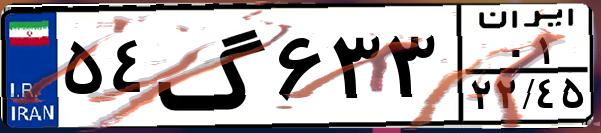0: (508, 27, 537, 80)
1: (537, 27, 568, 80)
2: (470, 70, 495, 125), (495, 70, 520, 125)
3: (385, 28, 445, 110), (330, 28, 385, 110)
4: (110, 28, 156, 98), (535, 70, 560, 125)
5: (57, 26, 110, 100), (560, 70, 590, 125)
6: (270, 28, 330, 110)
گ: (156, 12, 270, 120)
